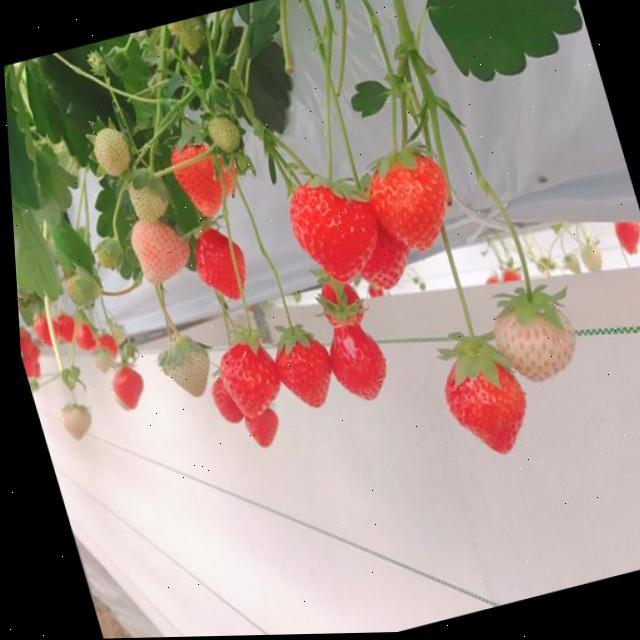ripe: (350, 140, 467, 272), (424, 336, 537, 468), (280, 174, 390, 297), (312, 318, 393, 415), (203, 336, 286, 429), (263, 327, 341, 420), (182, 219, 255, 310), (200, 372, 248, 429), (100, 362, 148, 415), (232, 404, 280, 452), (46, 310, 76, 344), (68, 322, 94, 354), (27, 316, 52, 349), (91, 332, 116, 359)
